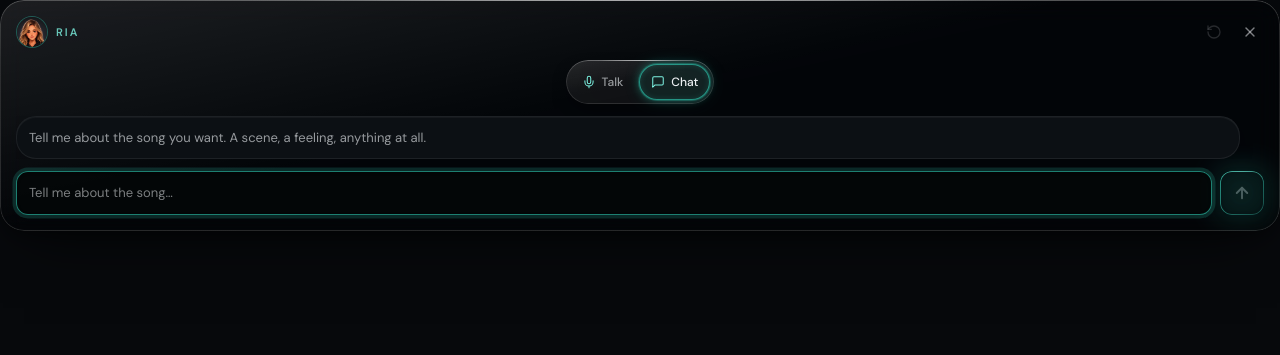
Test: ChatPanel › renders the suggestions the turn came back with
Type "a drive" into the text box named "Message the assistant".
click(614, 193); type("a drive")  # box [16, 171, 1212, 215]
Then press Enter
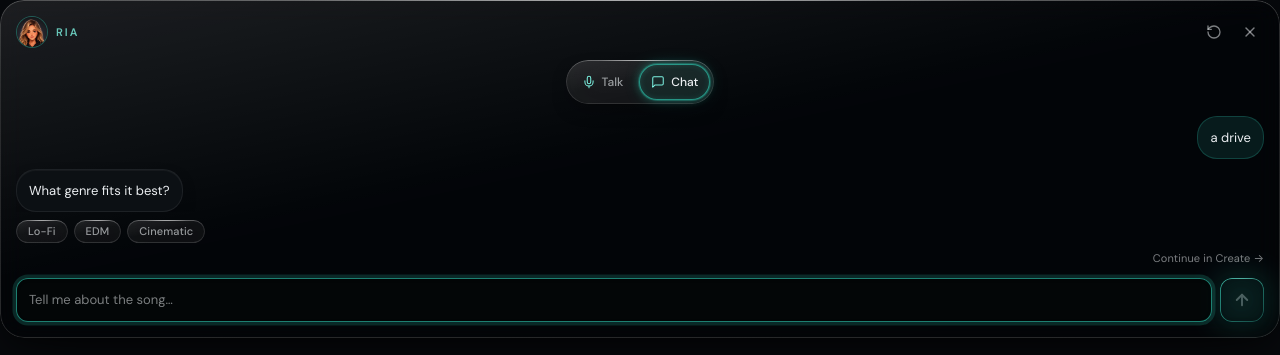
Now the button "Lo-Fi" is shown, box [16, 220, 68, 243]
Now the button "Cinematic" is shown, box [127, 220, 205, 243]
